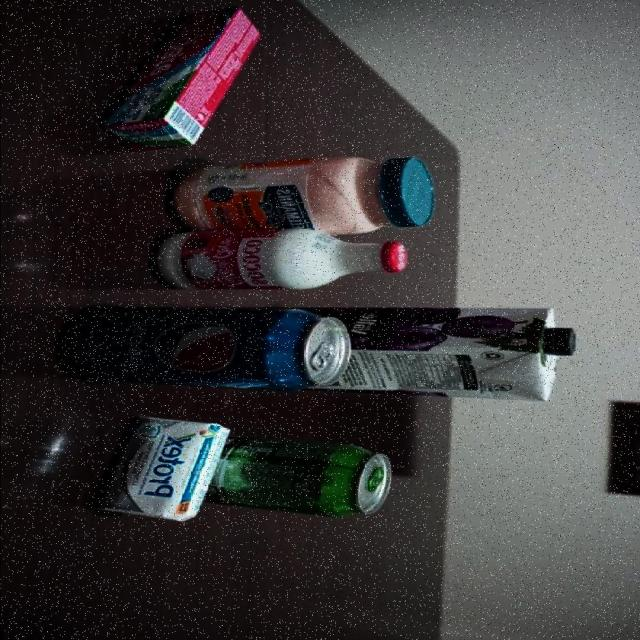BeerCan: (229, 436, 392, 518)
CoconutMilk: (150, 226, 412, 294)
Mayonnaise: (151, 160, 442, 226)
Soap: (99, 418, 228, 520)
SodaCan: (68, 308, 347, 391)
Toothpaste: (105, 0, 262, 152)
